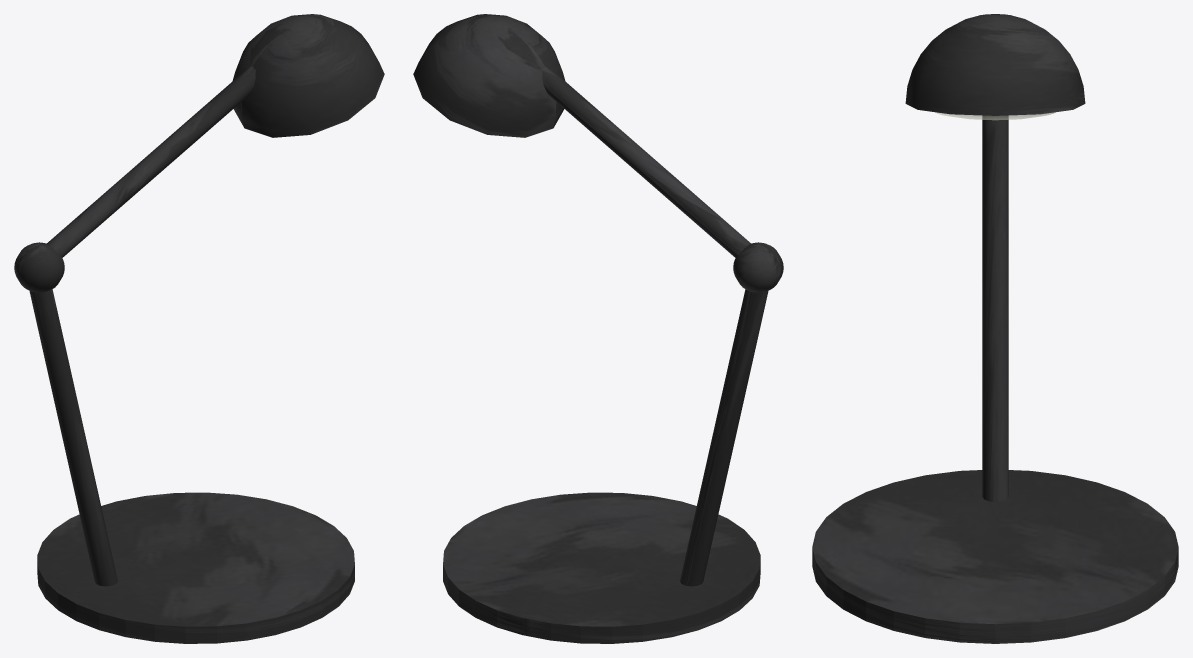
Rendered from Lampada de mesa.fbx.
The picture shows the model from 3 angles, left to right: view 1: azimuth 30°, elevation 25°; view 2: azimuth 150°, elevation 25°; view 3: azimuth 270°, elevation 25°; orthographic projection. The views are drawn at different scales.
Parts seen in each view (by area): view 1: Cylinder, Sphere.001, Cylinder.001, Cylinder.002, Sphere; view 2: Cylinder, Sphere.001, Cylinder.001, Cylinder.002, Sphere; view 3: Cylinder, Sphere.001, Cylinder.001.
Part boxes in pixels (<box>): Cylinder: <box>37,492,354,643</box>; Sphere.001: <box>232,14,384,137</box>; Cylinder.001: <box>29,289,117,586</box>; Cylinder.002: <box>47,66,255,257</box>; Sphere: <box>14,242,64,292</box>; Cylinder: <box>443,492,760,643</box>; Sphere.001: <box>413,14,565,137</box>; Cylinder.001: <box>680,289,768,586</box>; Cylinder.002: <box>542,66,750,257</box>; Sphere: <box>733,242,783,292</box>; Cylinder: <box>812,470,1178,643</box>; Sphere.001: <box>905,14,1085,115</box>; Cylinder.001: <box>982,116,1008,501</box>.
Bounding box in the file's own units: 792 × 1122 × 613.
